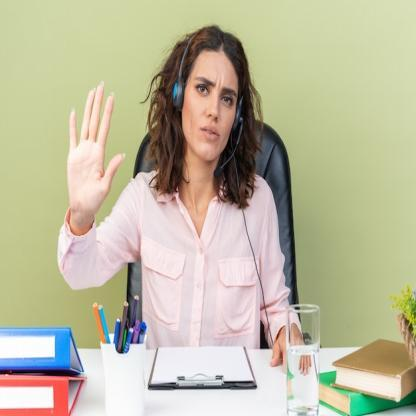stop: (65, 78, 127, 218)
